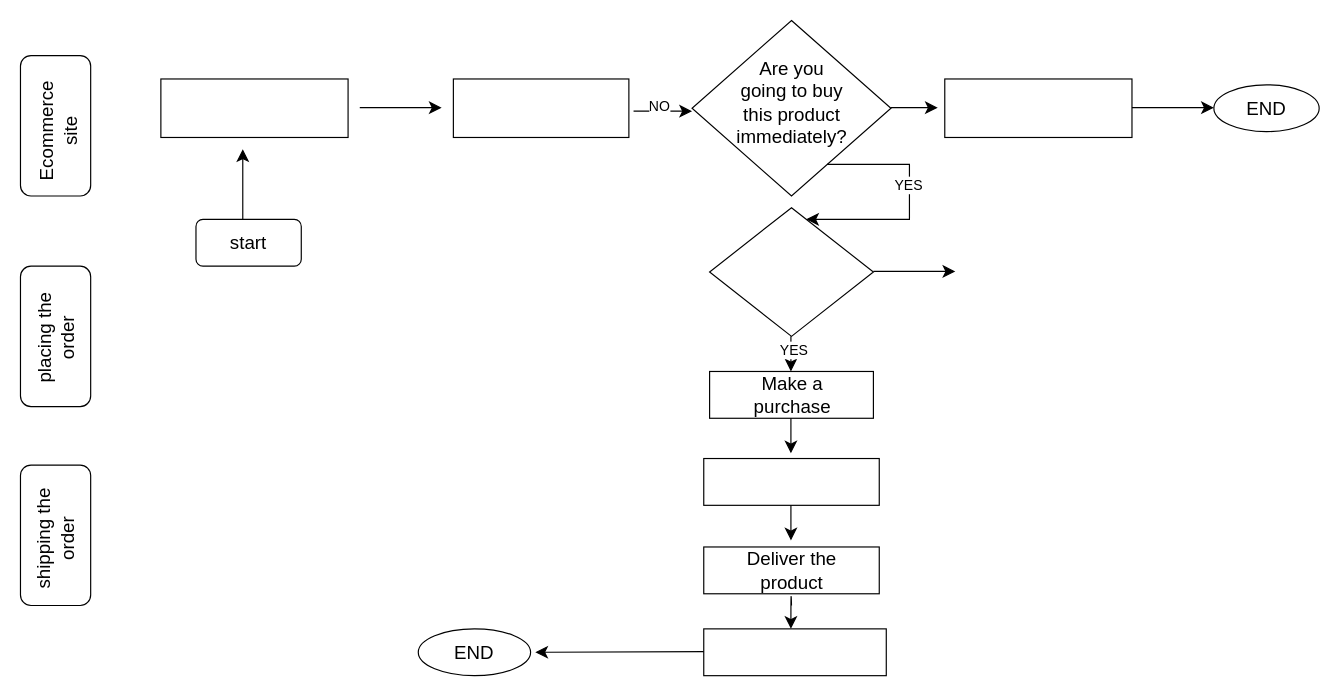
The diagram is 1340 pixels wide and 696 high, and some of its shapes have lost their labels. Each missing label, with the centre of its shape:
Add to shopping cart: pixel 1038 107
Collect payment: pixel 794 652
Process in warehouse: pixel 791 481
Search the product: pixel 254 107
Slelect the product: pixel 540 107
